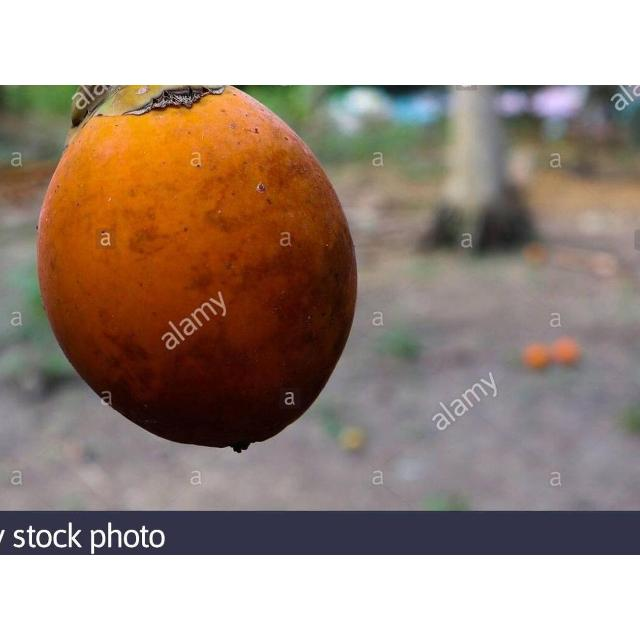good: (35, 85, 358, 454)
